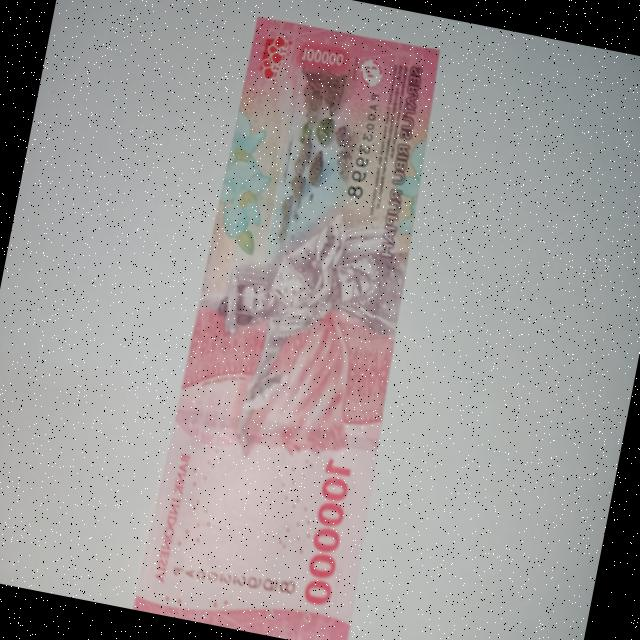100K: (118, 3, 472, 640)
